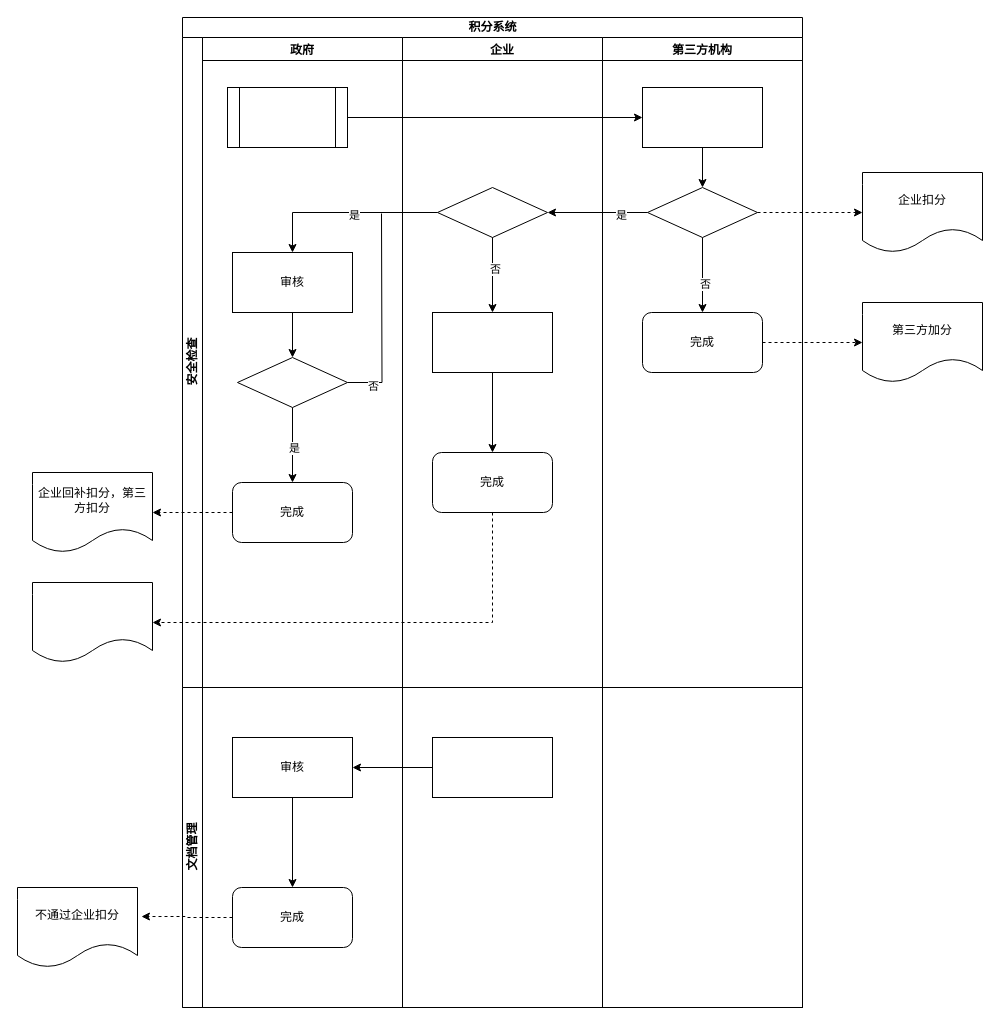
Some shapes in this 1000 by 1025 pixel diagram are drawn without their labels. Each missing label, with the centre of its shape:
"上传文档" belongs at [492,767].
"企业加分" belongs at [92,622].
"开始安全检查" belongs at [702,117].
"整改" belongs at [492,342].
"是否存在不符合项" belongs at [702,212].
"是否申诉" belongs at [492,212].
"是否通过" belongs at [292,382].
"设置积分规则" belongs at [287,117].
